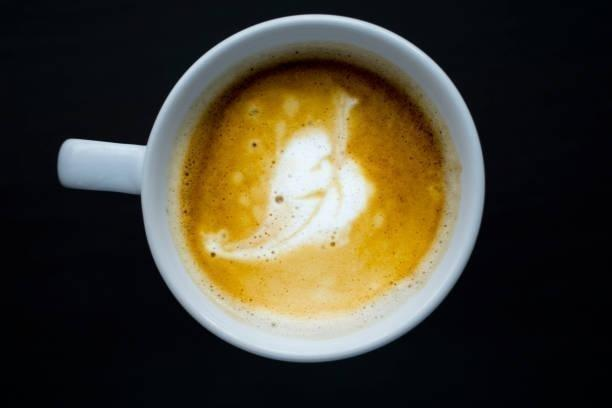cup-handle: (56, 10, 488, 366)
